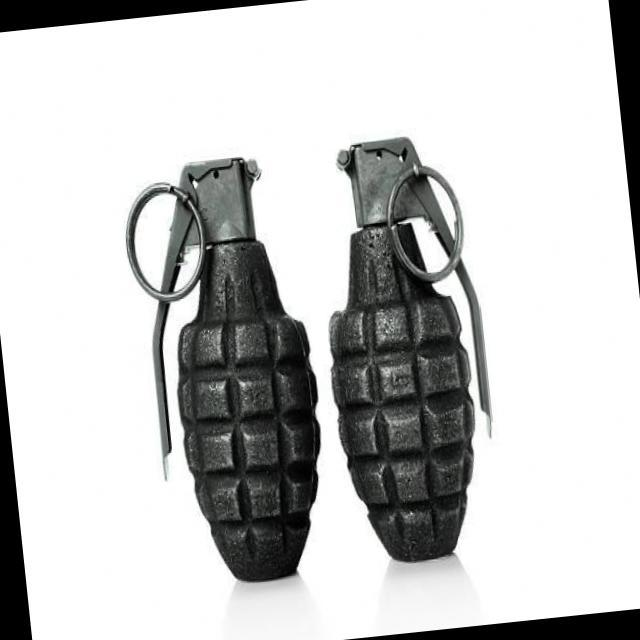grenade: (108, 73, 518, 582)
